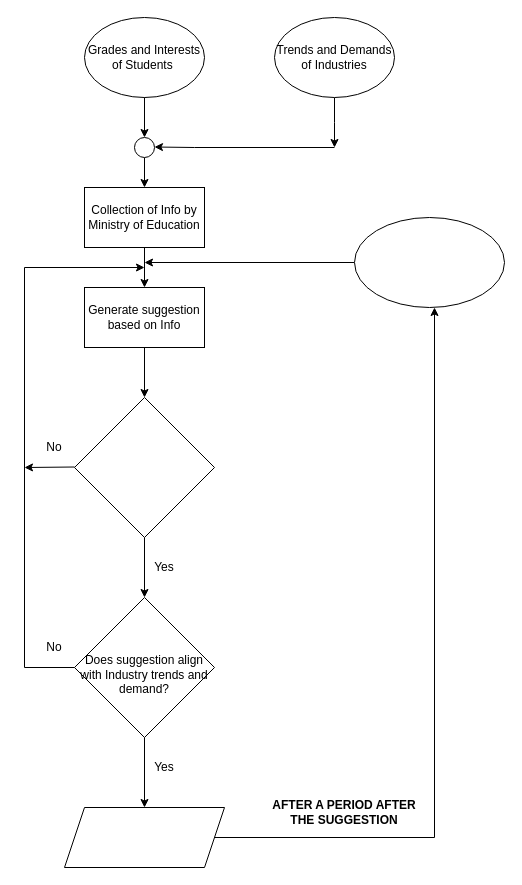
Some shapes in this 522 by 885 pixel diagram are drawn without their labels. The shapes that lost their labels are listed below. From the top down, each one's centre as x and y in pixels, then its label:
At [429,262]: "New Info on Student's Grades and Interests".
At [144,467]: "Does suggestion align with Interests and Grades?".
At [144,837]: "Provide suggestion to student".
